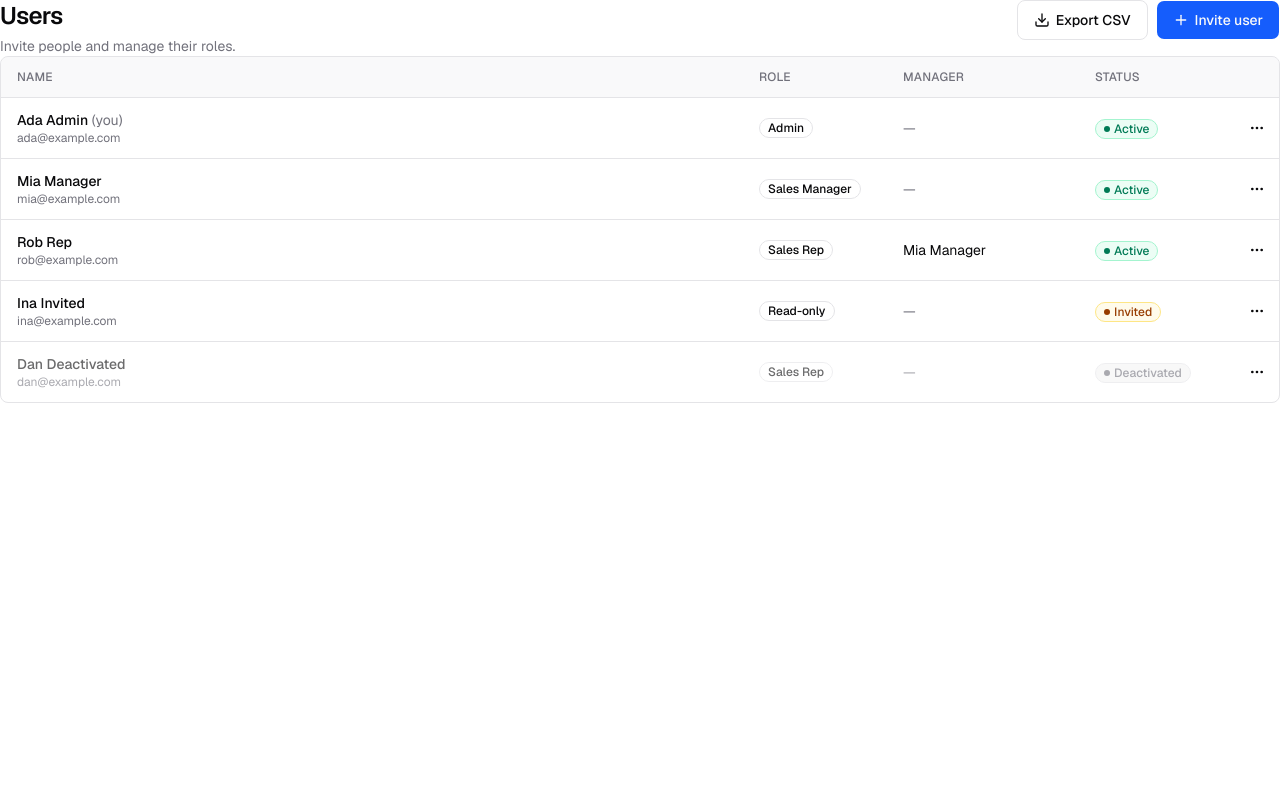
UsersPage › edits a user and sends only what changed
Click the button named "Actions for Rob Rep" at (1257, 250), box x1=1239 y1=232 x2=1275 y2=268
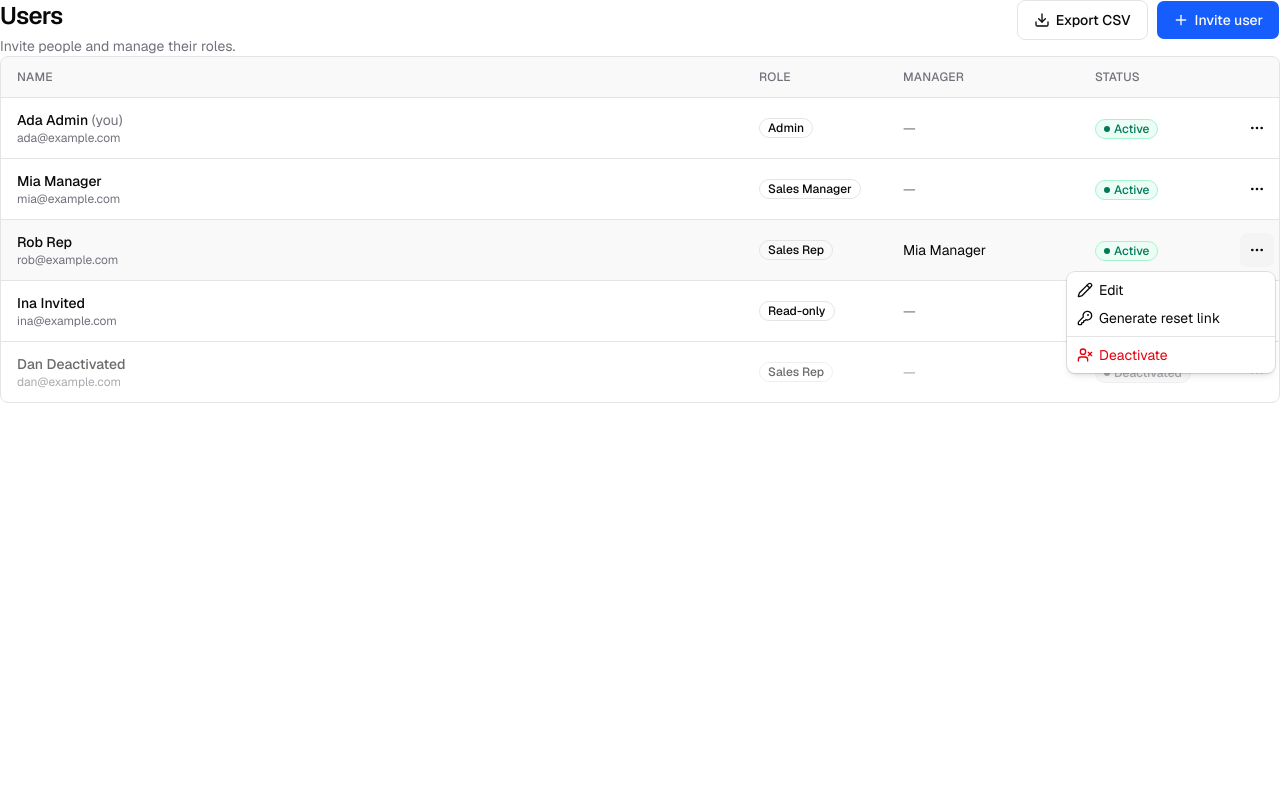
Click the menu item "Edit" at (1100, 290), box x1=1077 y1=281 x2=1124 y2=299
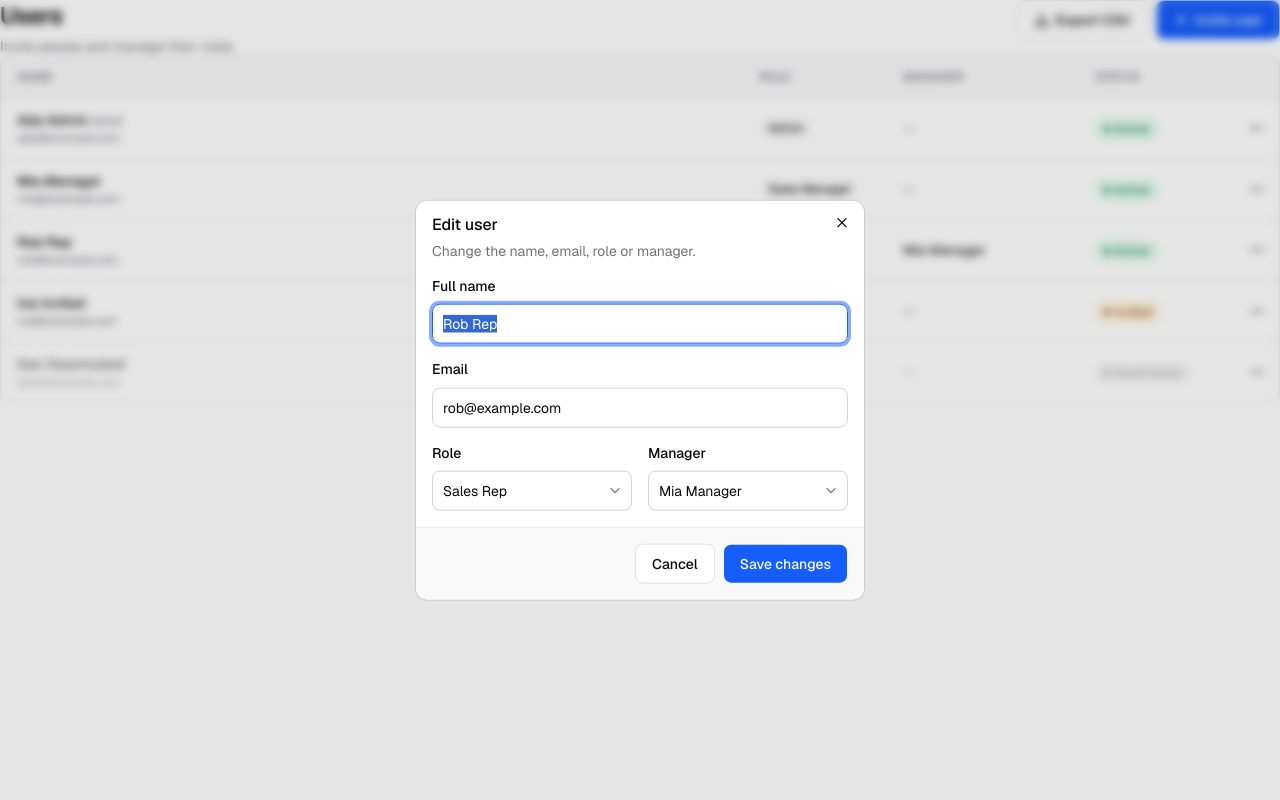
Replace the text in the field labelled "Full name" with "Robert Rep" at (640, 324), box x1=432 y1=304 x2=848 y2=344
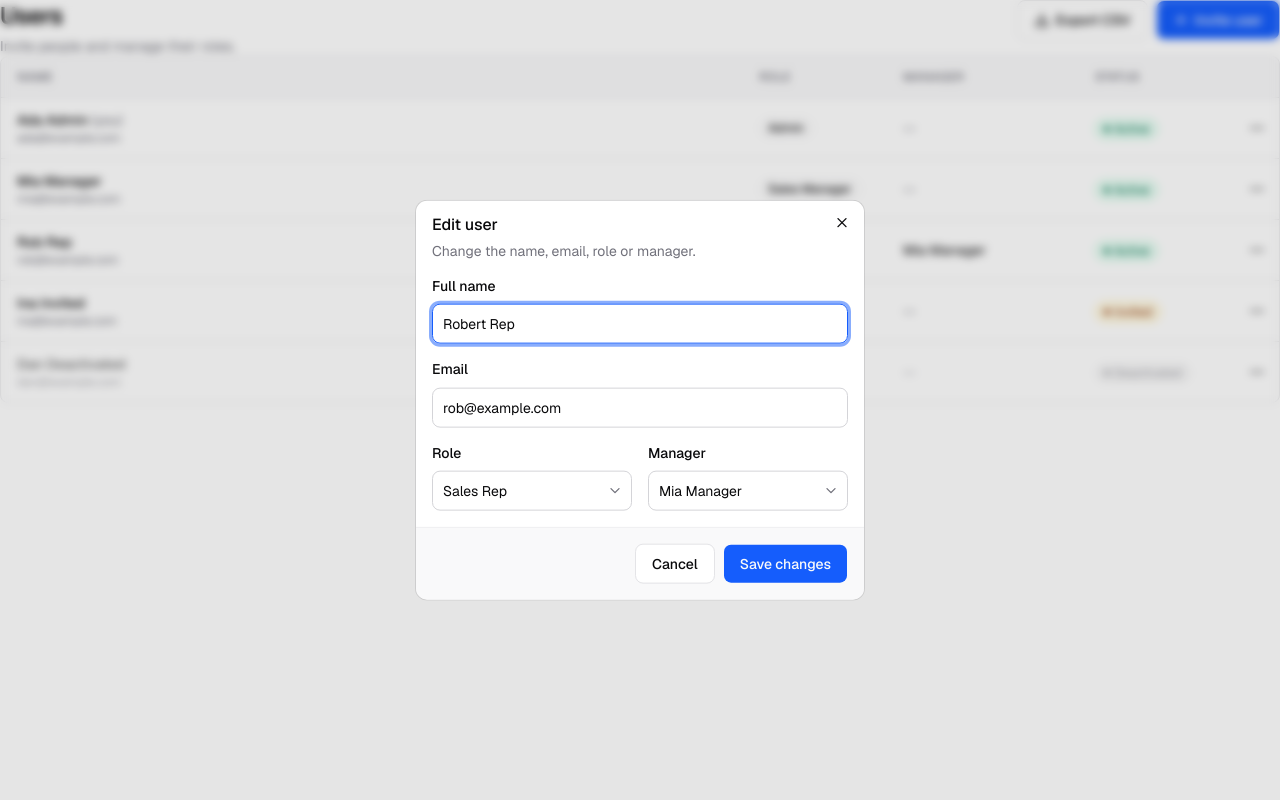
Click the button "Save changes" at (785, 563), box x1=723 y1=543 x2=848 y2=583
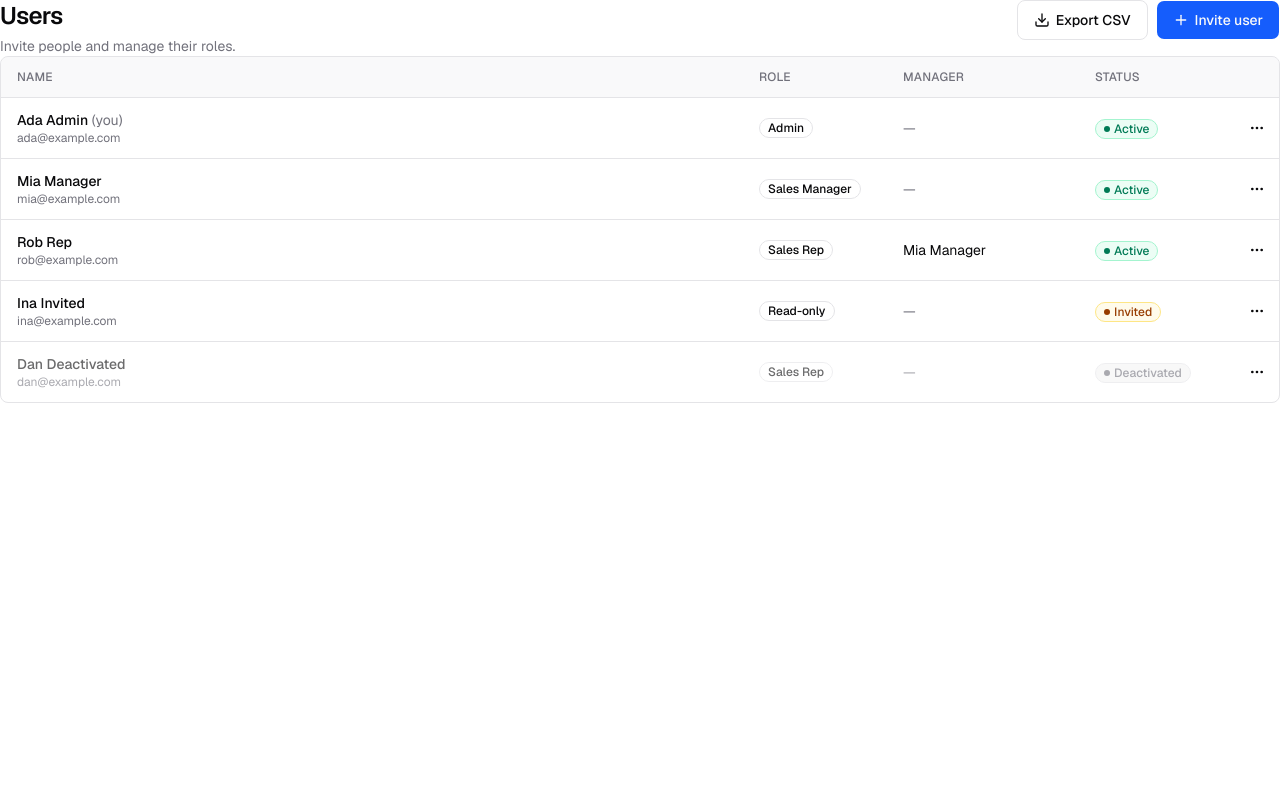
Expected: the dialog is gone
